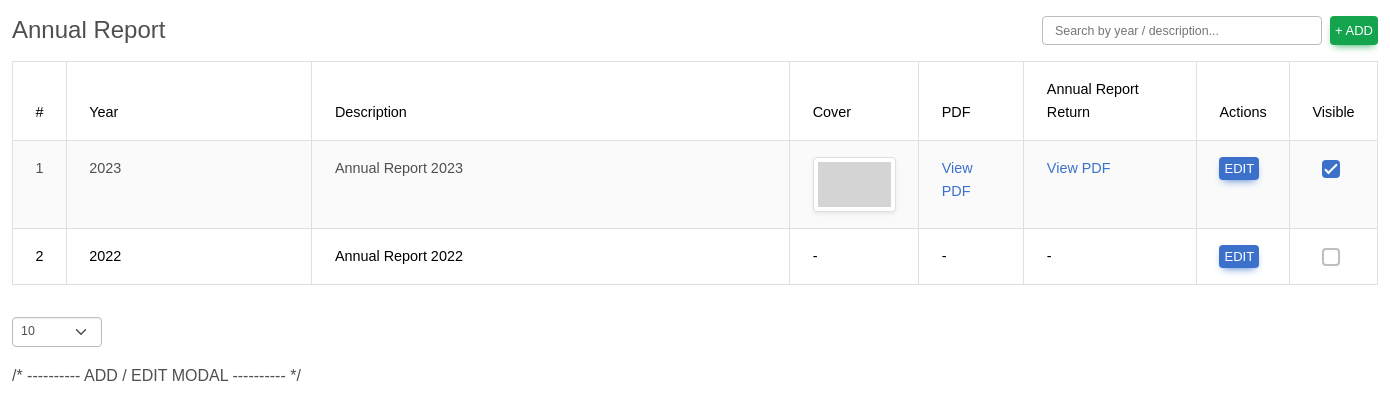
AdminAnnualReport Component › filters data based on search input
Check: the text "2023" is shown, box [66, 140, 312, 228]
Step 1. Type "2022" into the field with placeholder "Search by year / description..." → (1182, 30), box [1042, 16, 1322, 45]
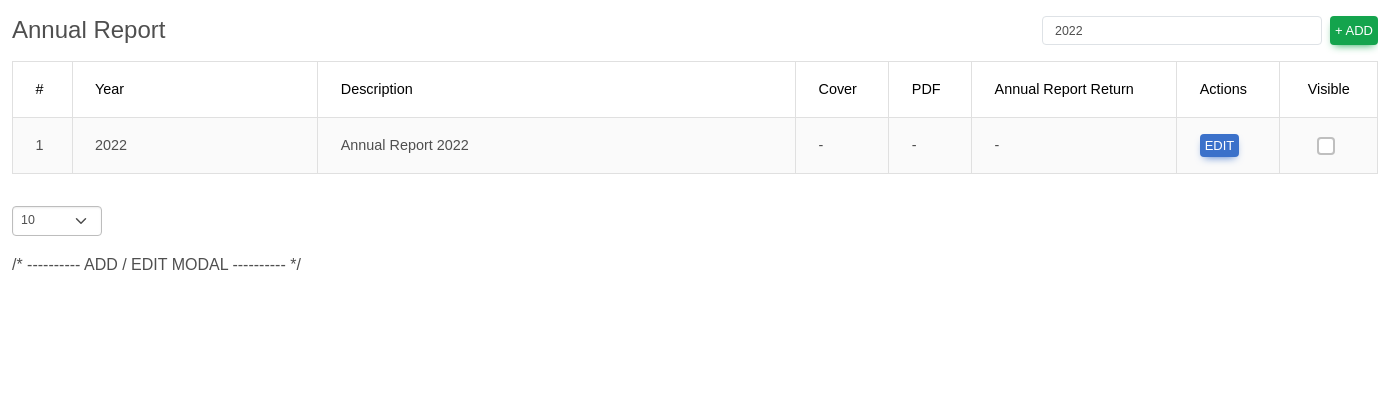
Check: the text "2022" is shown, box [72, 117, 318, 174]
Check: the text "2023" is gone
